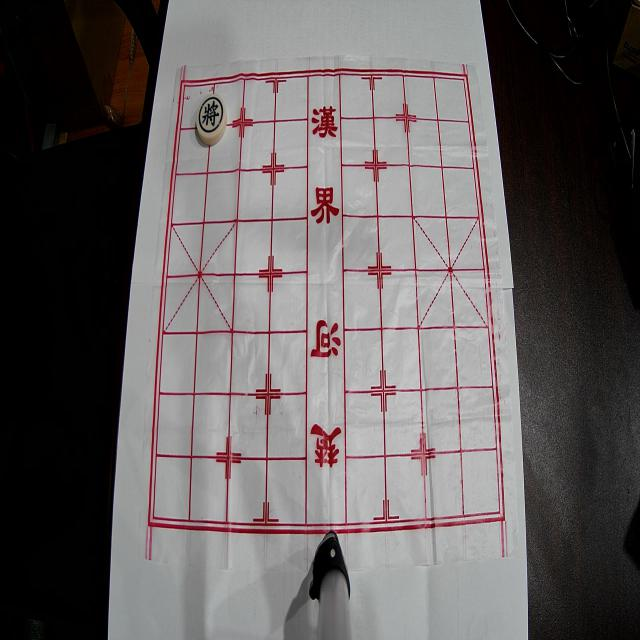black-general: (196, 94, 227, 146)
